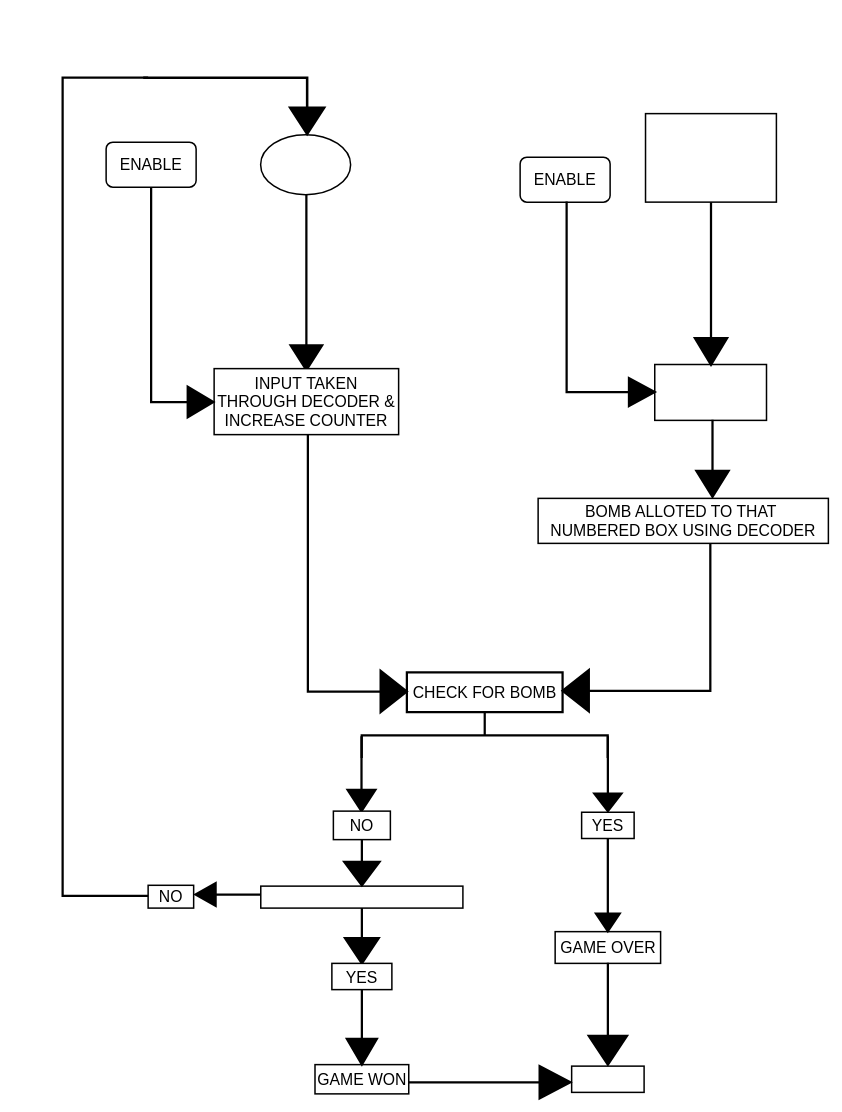
Image size: 842x1112. Some labels were removed from this diagram. Here are the shapes that lost their labels. From the top down, the box of each, then its label:
(260, 134, 351, 195): INPUT
(644, 112, 777, 202): RANDOM NUMBER GENERATOR USING LFSR
(654, 363, 767, 421): SELECT THE NUMBER
(260, 885, 463, 908): CHECK IF COUNTER = 15
(571, 1065, 644, 1093): RESET
